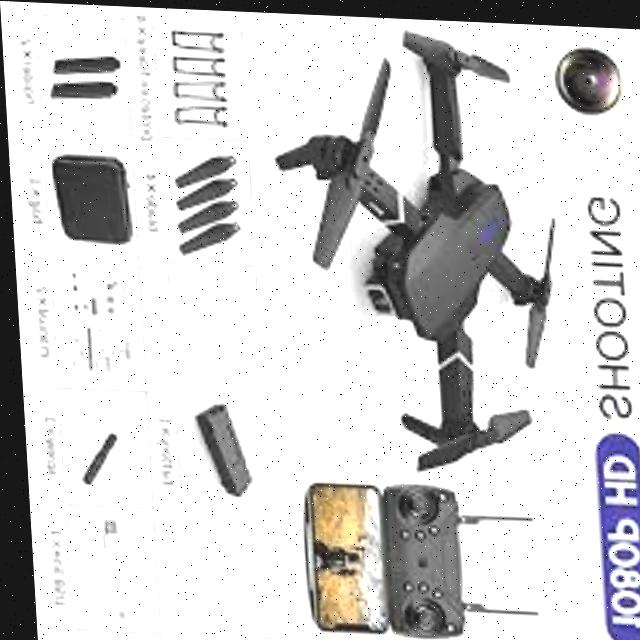drone: (260, 9, 569, 479)
